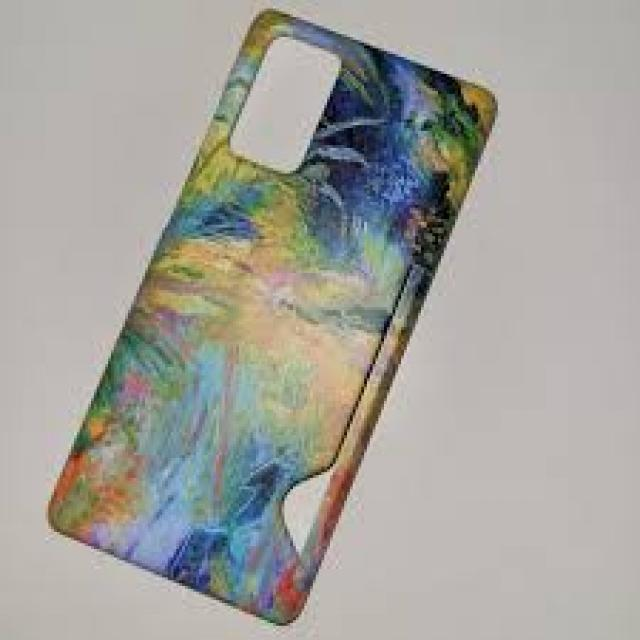Phone: (41, 6, 507, 634)
